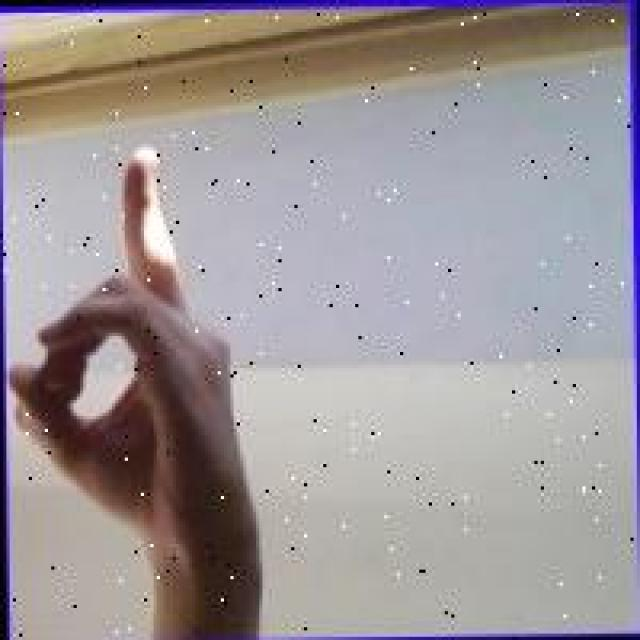D: (3, 138, 246, 572)
